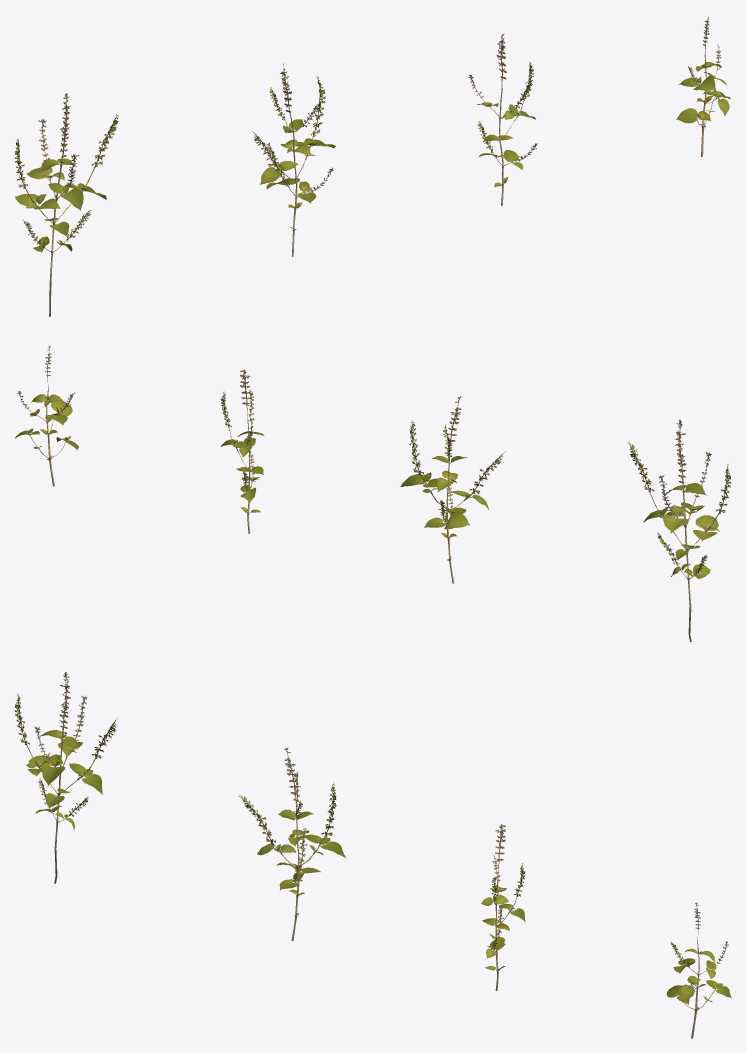
File: shrub_03.glb
3 views of the same model, one above another, from view 1: azimuth 30°, elevation 25°; view 2: azimuth 150°, elevation 25°; view 3: azimuth 330°, elevation 25° (orthographic). The views are drawn at different scales.
Parts seen in each view (by area): view 1: shrub_03_a_LOD0.001, shrub_03_b_LOD0.001, shrub_03_c_LOD0.001, shrub_03_d_LOD0.001; view 2: shrub_03_a_LOD0.001, shrub_03_b_LOD0.001, shrub_03_c_LOD0.001, shrub_03_d_LOD0.001; view 3: shrub_03_a_LOD0.001, shrub_03_b_LOD0.001, shrub_03_d_LOD0.001, shrub_03_c_LOD0.001.
Part boxes in pixels (left/top/right/bottom): shrub_03_a_LOD0.001: left=14, top=93, right=118, bottom=316; shrub_03_b_LOD0.001: left=252, top=63, right=335, bottom=256; shrub_03_c_LOD0.001: left=468, top=34, right=537, bottom=205; shrub_03_d_LOD0.001: left=676, top=16, right=730, bottom=156; shrub_03_a_LOD0.001: left=627, top=419, right=730, bottom=641; shrub_03_b_LOD0.001: left=400, top=396, right=504, bottom=583; shrub_03_c_LOD0.001: left=220, top=369, right=264, bottom=533; shrub_03_d_LOD0.001: left=14, top=346, right=78, bottom=486; shrub_03_a_LOD0.001: left=14, top=672, right=117, bottom=883; shrub_03_b_LOD0.001: left=238, top=747, right=345, bottom=940; shrub_03_d_LOD0.001: left=666, top=902, right=731, bottom=1038; shrub_03_c_LOD0.001: left=481, top=824, right=525, bottom=990.
Bounding box in the file's own units: 1.37 × 0.4028 × 0.1512.
1 material, 1 textured.
